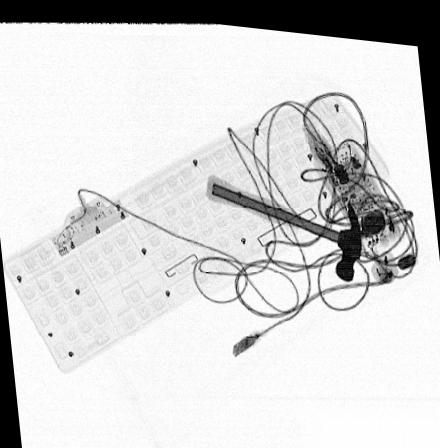Hammer: (206, 169, 363, 274)
